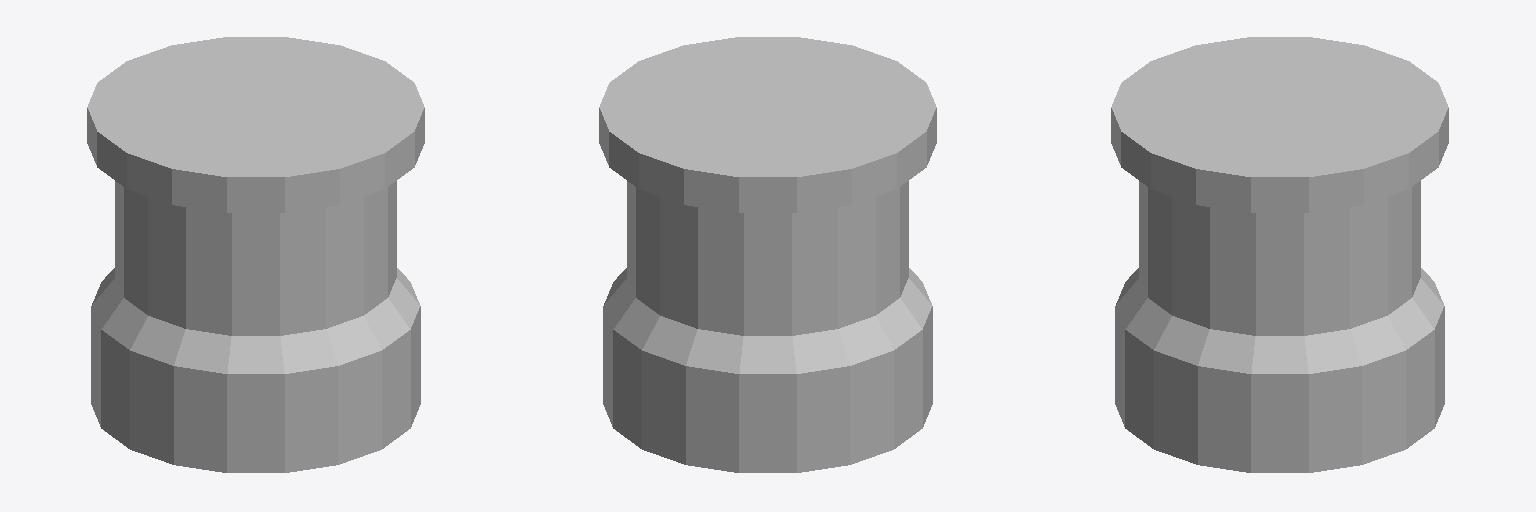
The model's file is pedestal.obj.
3 views of the same model, side by side, from view 1: azimuth 30°, elevation 25°; view 2: azimuth 150°, elevation 25°; view 3: azimuth 270°, elevation 25° (orthographic).
Parts seen in each view (by area): view 1: Pedestal_Cylinder; view 2: Pedestal_Cylinder; view 3: Pedestal_Cylinder.
Part boxes in pixels (x1,y1,x2,y2): Pedestal_Cylinder: (87, 37, 424, 472); Pedestal_Cylinder: (599, 37, 936, 472); Pedestal_Cylinder: (1111, 37, 1448, 472).
Bounding box in the file's own units: 2.36 × 2.34 × 2.4.